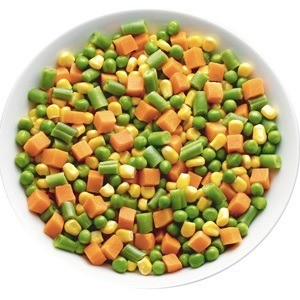green pea_brain food: (167, 175, 227, 240), (139, 39, 171, 109), (30, 64, 74, 108), (186, 67, 213, 130), (90, 156, 125, 182), (174, 137, 206, 162), (57, 198, 85, 224), (52, 121, 75, 145)
